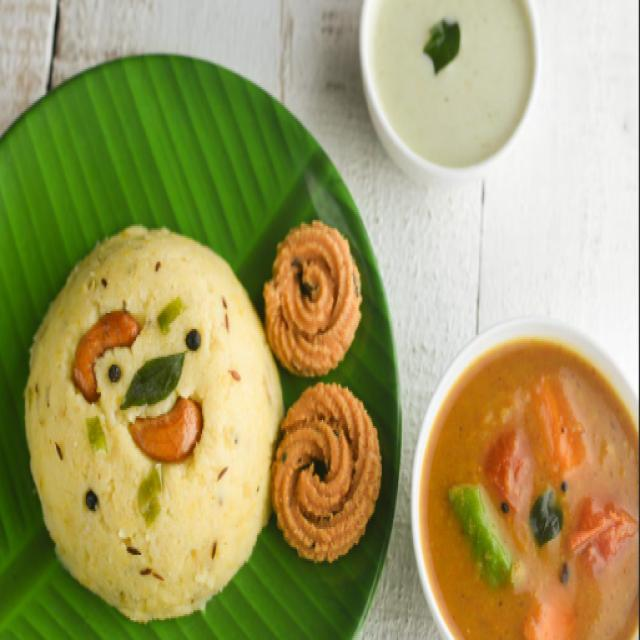PONGAL: (26, 230, 285, 616)
SAMBAR: (418, 336, 637, 638)
WHITE CHUTNEY: (369, 2, 533, 164)
